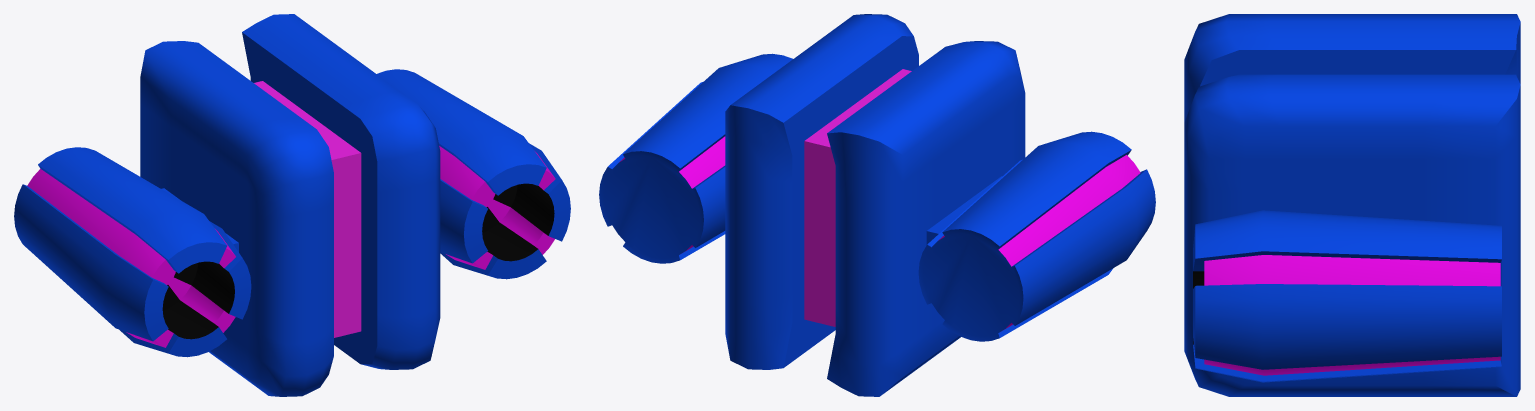
Rendered from spacemissilelaunch.fbx.
The picture shows the model from 3 angles, left to right: view 1: azimuth 30°, elevation 25°; view 2: azimuth 150°, elevation 25°; view 3: azimuth 270°, elevation 25°; orthographic projection. The views are drawn at different scales.
Visible parts, largest first — view 1: Cube.003, Cube.004, Cylinder.001, Cylinder, Cube.001; view 2: Cube.003, Cube.004, Cylinder.001, Cylinder, Cube.001, Cube.002; view 3: Cube.004, Cylinder, Cube.003.
Boxes of the visible parts, x1=… form: Cube.003: x1=140, y1=41, x2=333, y2=396; Cube.004: x1=242, y1=14, x2=440, y2=369; Cylinder.001: x1=14, y1=147, x2=251, y2=357; Cylinder: x1=377, y1=69, x2=570, y2=279; Cube.001: x1=254, y1=81, x2=361, y2=337; Cube.003: x1=827, y1=41, x2=1025, y2=396; Cube.004: x1=725, y1=14, x2=918, y2=369; Cylinder.001: x1=918, y1=131, x2=1155, y2=341; Cylinder: x1=599, y1=53, x2=792, y2=263; Cube.001: x1=804, y1=69, x2=911, y2=326; Cube.002: x1=926, y1=176, x2=1001, y2=244; Cube.004: x1=1184, y1=74, x2=1520, y2=396; Cylinder: x1=1193, y1=210, x2=1501, y2=382; Cube.003: x1=1184, y1=14, x2=1520, y2=121.
Bounding box in the file's own units: 422 × 235 × 235.
